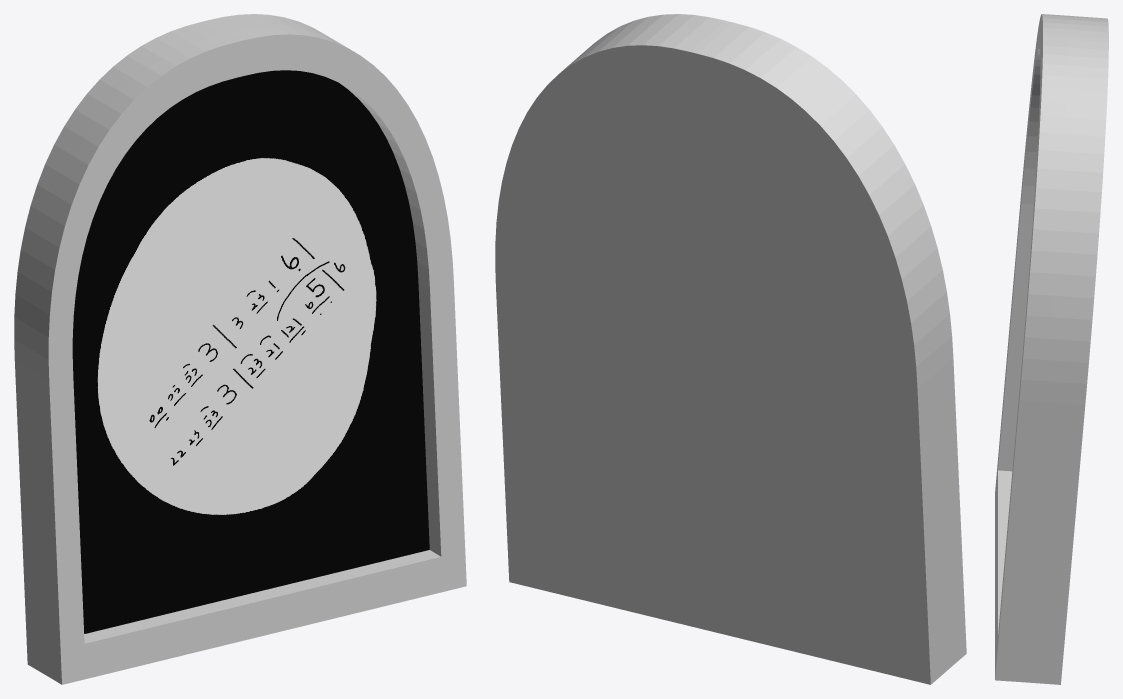
The model's file is mirro.fbx.
3 renders of one model, left to right at view 1: azimuth 30°, elevation 25°; view 2: azimuth 150°, elevation 25°; view 3: azimuth 270°, elevation 25°, orthographic. The views are drawn at different scales.
Parts seen in each view (by area): view 1: mirror, dressing_mirror; view 2: dressing_mirror; view 3: dressing_mirror.
Part boxes in pixels (x1,y1,x2,y2): mirror: (72,70,429,633); dressing_mirror: (14,14,466,684); dressing_mirror: (495,14,966,684); dressing_mirror: (995,14,1108,684).
Bounding box in the file's own units: 128 × 176 × 32.75.
